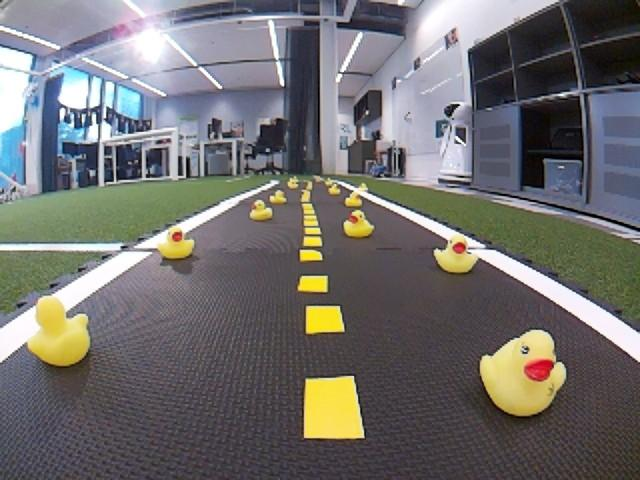Duckies: (479, 331, 565, 419), (27, 297, 90, 367), (433, 236, 477, 273), (155, 226, 193, 259), (343, 211, 373, 238), (251, 202, 273, 221), (345, 194, 361, 206), (270, 192, 286, 204), (329, 187, 341, 195), (289, 180, 299, 188), (358, 185, 367, 191), (360, 183, 368, 189), (326, 179, 332, 185)
